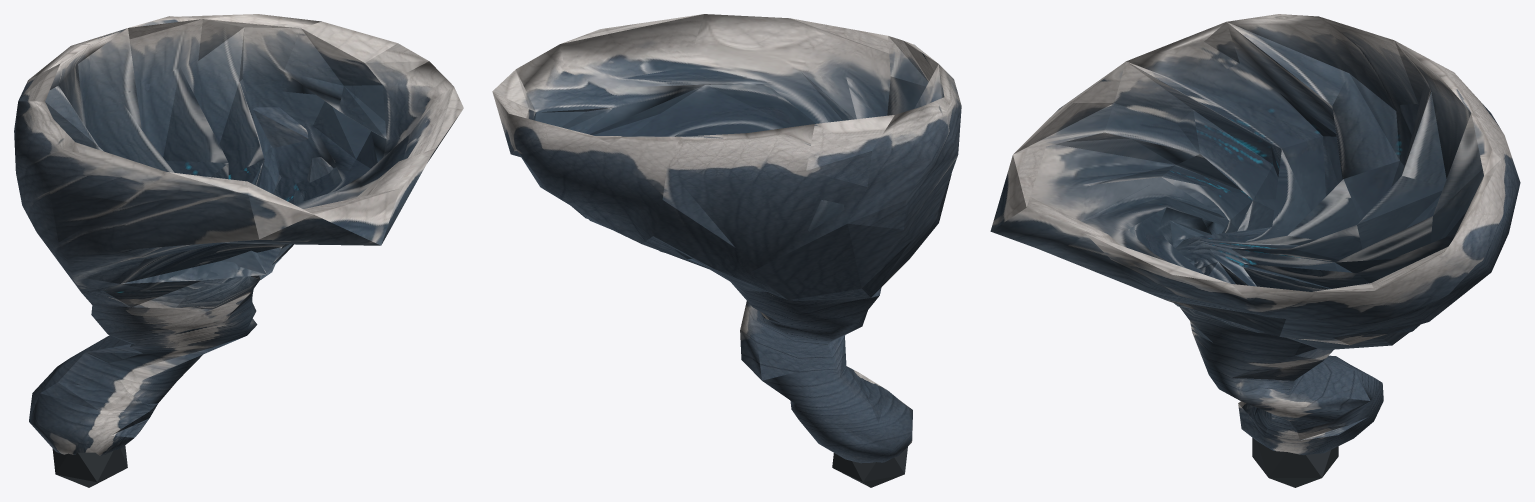
Rendered from eholovec-uho.glb.
The picture shows the model from 3 angles, left to right: view 1: azimuth 30°, elevation 25°; view 2: azimuth 150°, elevation 25°; view 3: azimuth 270°, elevation 25°; orthographic projection. The views are drawn at different scales.
Visible parts, largest first — view 1: eholovec-uho; view 2: eholovec-uho; view 3: eholovec-uho.
Part boxes in pixels (x1,y1,x2,y2): eholovec-uho: (14,14,463,487); eholovec-uho: (492,14,961,487); eholovec-uho: (990,14,1520,487).
Bounding box in the file's own units: 0.9874 × 0.89 × 0.9387.
Materials: 1 (1 with a texture image).
